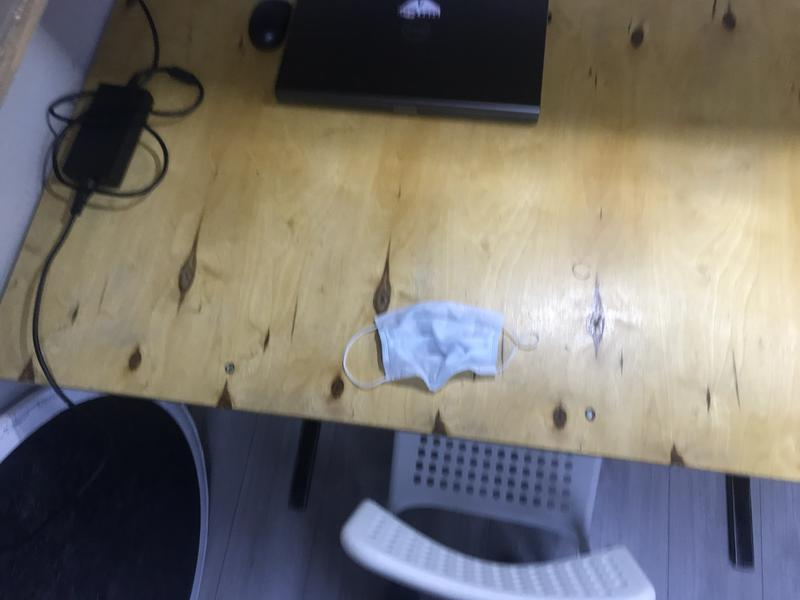medical_mask: (341, 301, 541, 389)
